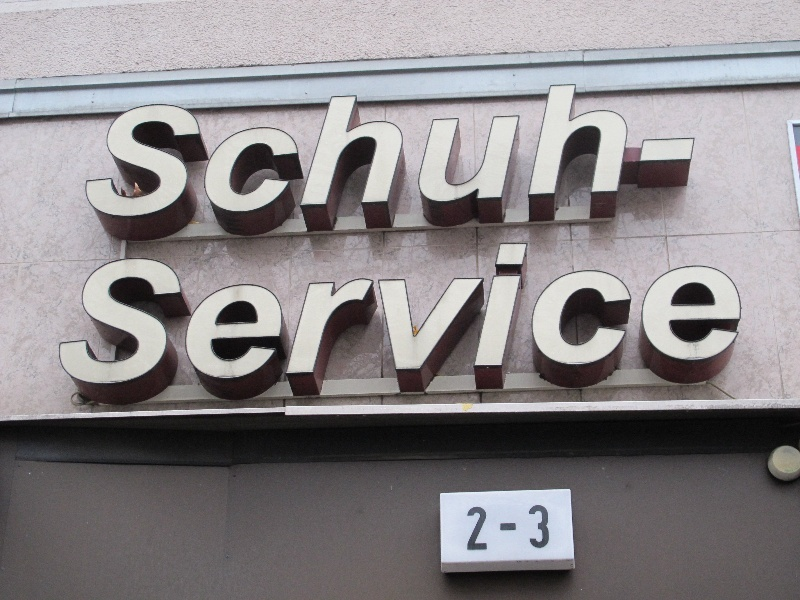text: (97, 231, 112, 412), (113, 231, 128, 412), (129, 231, 144, 412), (145, 231, 160, 412), (161, 231, 176, 412), (177, 231, 192, 412), (193, 231, 208, 412), (209, 231, 224, 412), (225, 231, 240, 412), (241, 231, 256, 412), (257, 231, 272, 412), (273, 231, 288, 412), (289, 231, 304, 412), (305, 231, 320, 412), (321, 231, 336, 412), (337, 231, 352, 412), (353, 231, 368, 412), (369, 231, 384, 412), (385, 231, 400, 412), (401, 231, 416, 412), (417, 231, 432, 412), (433, 231, 448, 412), (449, 231, 464, 412), (465, 231, 480, 412), (481, 231, 496, 412), (497, 231, 512, 412), (513, 231, 528, 412), (529, 231, 544, 412), (545, 231, 560, 412), (561, 231, 576, 412), (577, 231, 592, 412), (593, 231, 608, 412), (609, 231, 624, 412), (625, 231, 640, 412), (641, 231, 656, 412), (657, 231, 672, 412), (673, 231, 688, 412), (689, 231, 704, 412), (705, 231, 720, 412), (721, 231, 736, 412), (737, 231, 752, 412), (129, 77, 144, 244), (145, 77, 160, 244), (161, 77, 176, 244), (177, 77, 192, 244), (193, 77, 208, 244), (209, 77, 224, 244), (225, 77, 240, 244), (241, 77, 256, 244), (257, 77, 272, 244), (273, 77, 288, 244), (289, 77, 304, 244), (305, 77, 320, 244), (321, 77, 336, 244), (337, 77, 352, 244), (353, 77, 368, 244), (369, 77, 384, 244), (385, 77, 400, 244), (401, 77, 416, 244), (417, 77, 432, 244), (433, 77, 448, 244), (449, 77, 464, 244), (465, 77, 480, 244), (481, 77, 496, 244), (497, 77, 512, 244), (513, 77, 528, 244), (529, 77, 544, 244), (545, 77, 560, 244), (561, 77, 576, 244), (577, 77, 592, 244), (593, 77, 608, 244), (609, 77, 624, 244), (625, 77, 640, 244), (641, 77, 656, 244), (657, 77, 672, 244), (673, 77, 688, 244), (689, 77, 704, 244), (84, 231, 96, 412), (115, 77, 128, 244), (705, 77, 710, 244), (465, 503, 480, 554), (529, 505, 544, 549), (481, 503, 491, 554), (545, 505, 550, 549), (753, 231, 754, 412), (500, 522, 512, 531), (513, 522, 517, 531)
